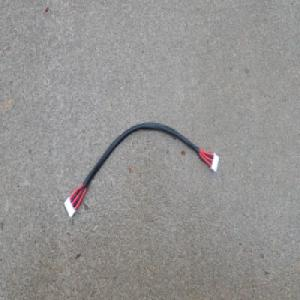Wire: (62, 120, 220, 220)
